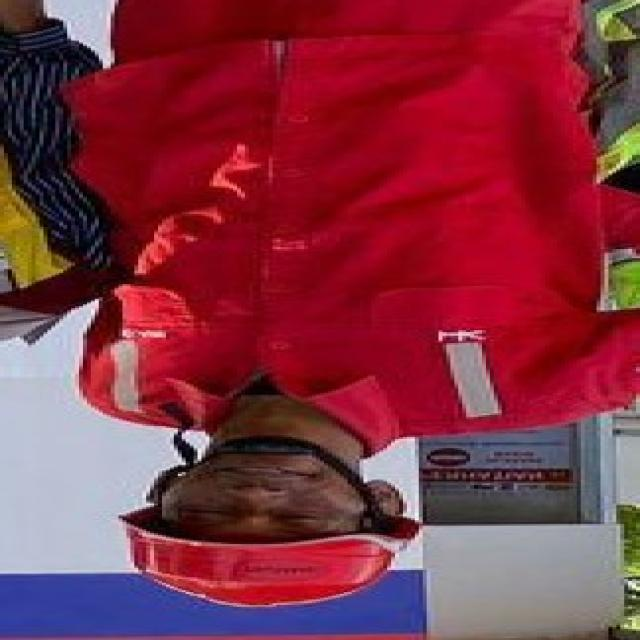safetyhelmet: (124, 457, 426, 610)
